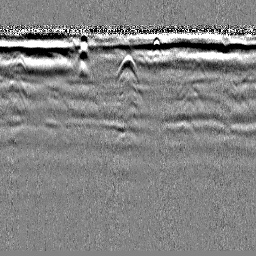cavity: (114, 52, 140, 85)
